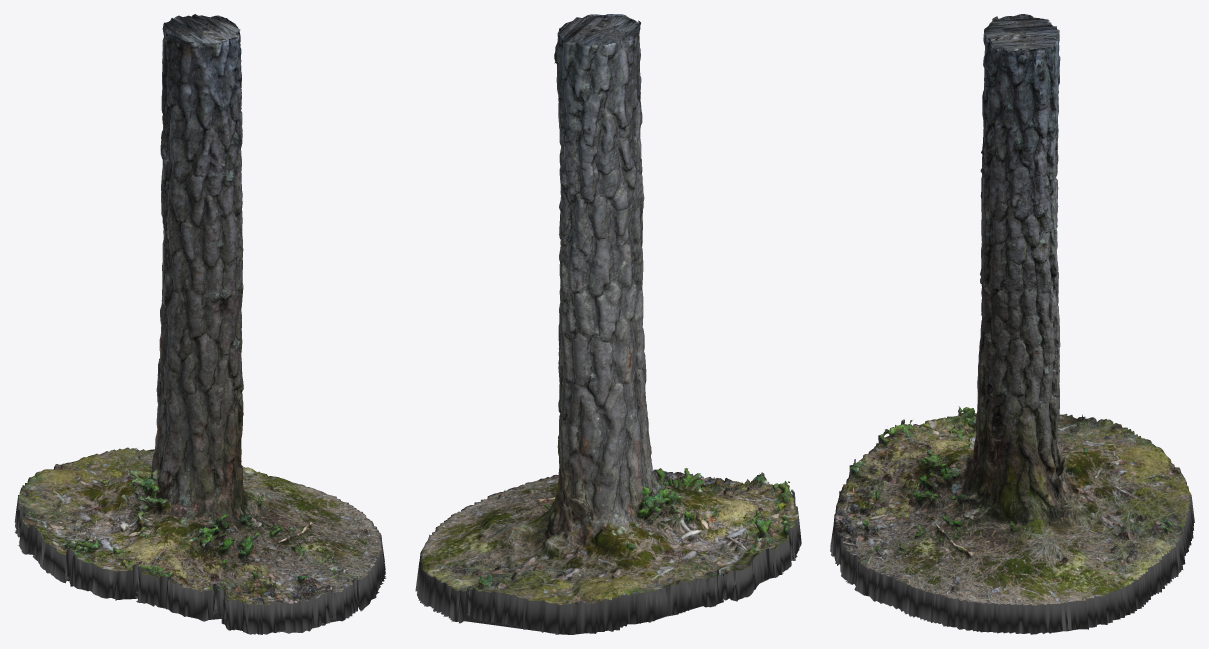
The model's file is lowpoly_pine_trunk-CHGVICL4.glb.
3 views of the same model, side by side, from view 1: azimuth 30°, elevation 25°; view 2: azimuth 150°, elevation 25°; view 3: azimuth 270°, elevation 25° (orthographic). The views are drawn at different scales.
Parts seen in each view (by area): view 1: Object_2, Object_3; view 2: Object_2, Object_3; view 3: Object_2, Object_3.
Part boxes in pixels (x1,y1,x2,y2): Object_2: [18, 14, 381, 605]; Object_3: [14, 449, 385, 634]; Object_2: [420, 14, 798, 605]; Object_3: [415, 469, 801, 634]; Object_2: [834, 14, 1191, 605]; Object_3: [830, 408, 1194, 634].
Size of the model in its own units: 11.26 by 18.32 by 11.36.
Materials: 2 (1 with a texture image).
